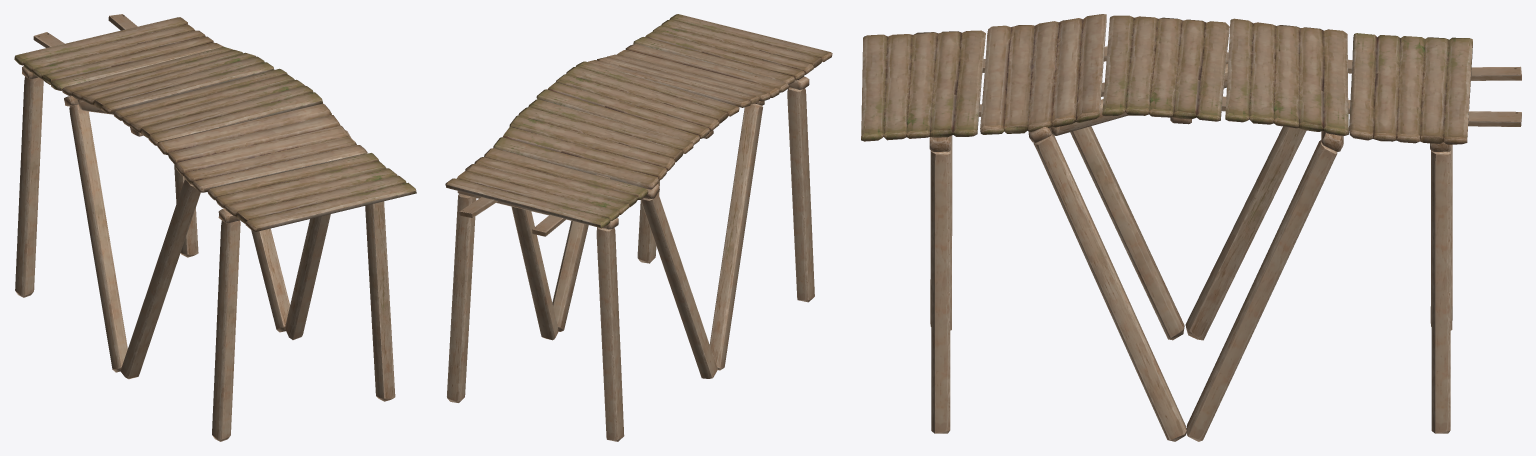
File: Scaffolding_path_03.fbx
3 renders of one model, left to right at view 1: azimuth 30°, elevation 25°; view 2: azimuth 150°, elevation 25°; view 3: azimuth 270°, elevation 25°, orthographic. The views are drawn at different scales.
Parts seen in each view (by area): view 1: Scaffolding_path_03_LOD0; view 2: Scaffolding_path_03_LOD0; view 3: Scaffolding_path_03_LOD0.
Boxes of the visible parts, x1=… form: Scaffolding_path_03_LOD0: x1=14, y1=14, x2=416, y2=441; Scaffolding_path_03_LOD0: x1=445, y1=14, x2=832, y2=441; Scaffolding_path_03_LOD0: x1=861, y1=14, x2=1521, y2=441.
Size of what is drawn, in the model's own units: 2.13 by 2.99 by 5.39.
